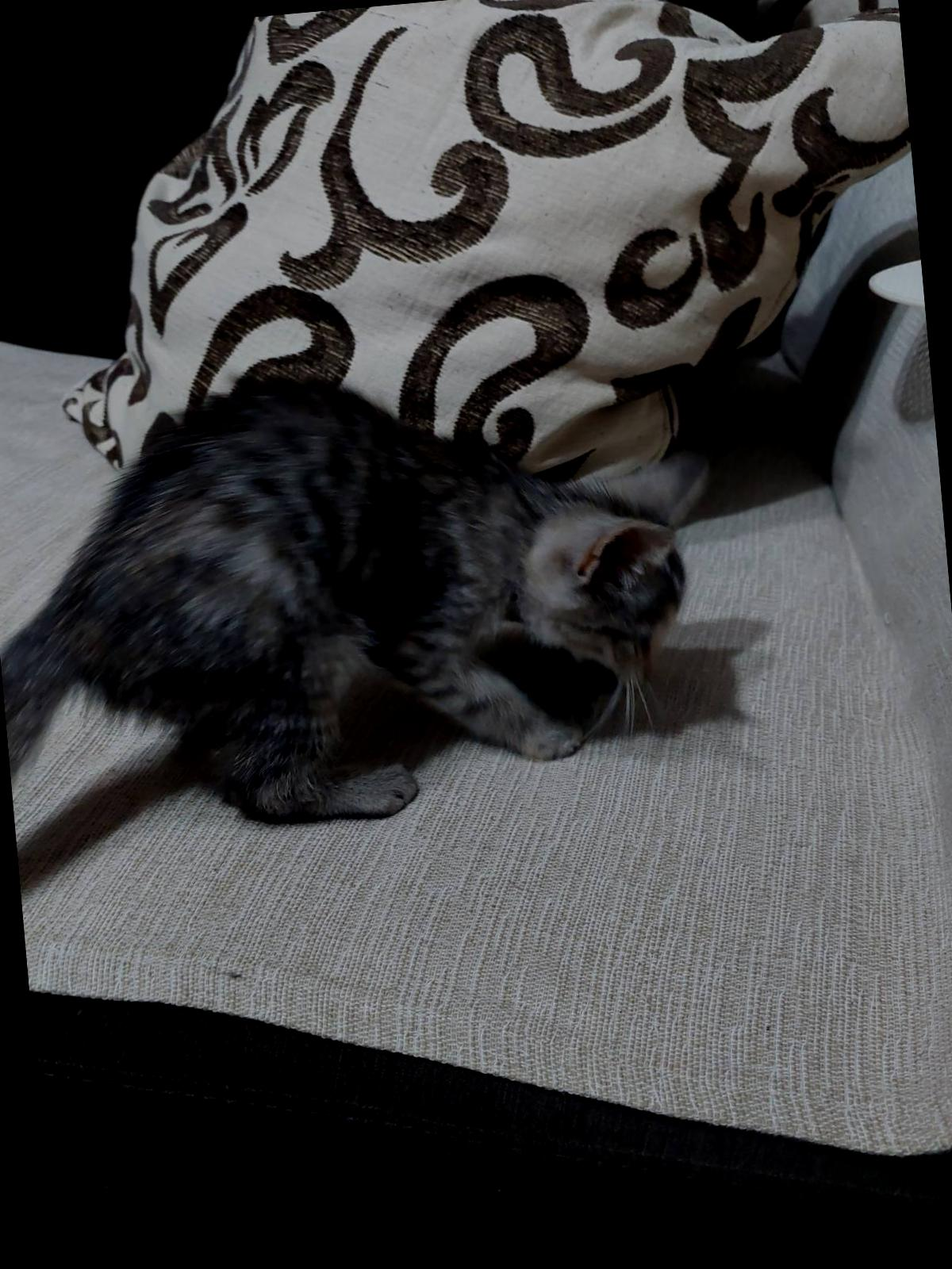macka: (0, 341, 741, 845)
